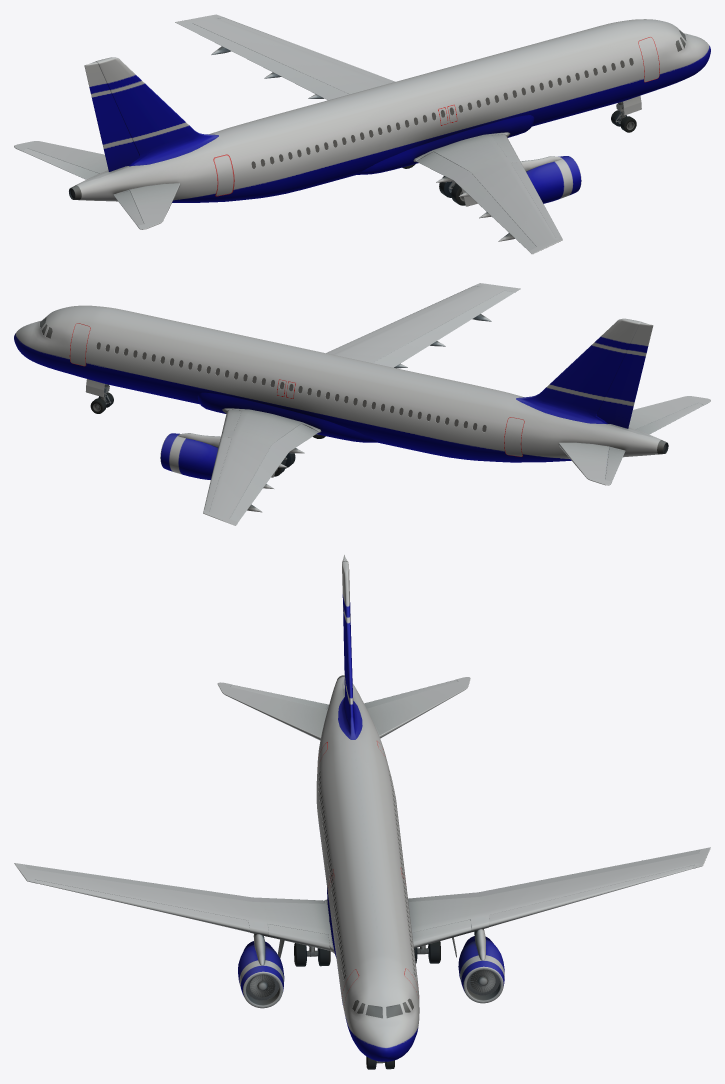
File: FinishedPlane.glb
The picture shows the model from 3 angles, top to bottom: view 1: azimuth 30°, elevation 25°; view 2: azimuth 150°, elevation 25°; view 3: azimuth 270°, elevation 25°; orthographic projection. The views are drawn at different scales.
Visible parts, largest first — view 1: node_id30; view 2: node_id30; view 3: node_id30.
Boxes of the visible parts, x1,y1,x2,y2 form: node_id30: [14, 14, 710, 254]; node_id30: [14, 283, 710, 525]; node_id30: [14, 555, 710, 1069].
Bounding box in the file's own units: 0.593 × 0.1821 × 0.5113.
Materials: 1 (1 with a texture image).
